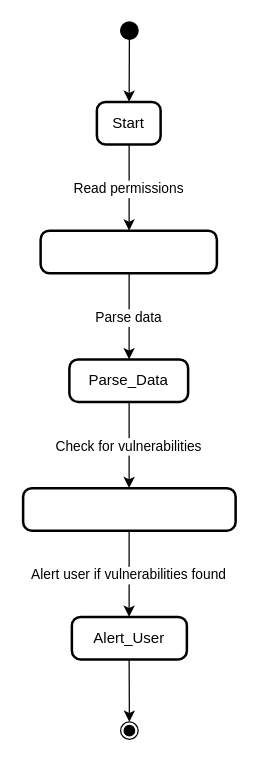
Image size: 258x761. Some labels were removed from this diagram. The shapes that lost their labels are listed below. From the top down, each one's centre as x and y in pixels, then its label:
[128,251]: Read_Permissions
[128,508]: Check_Vulnerabilities
